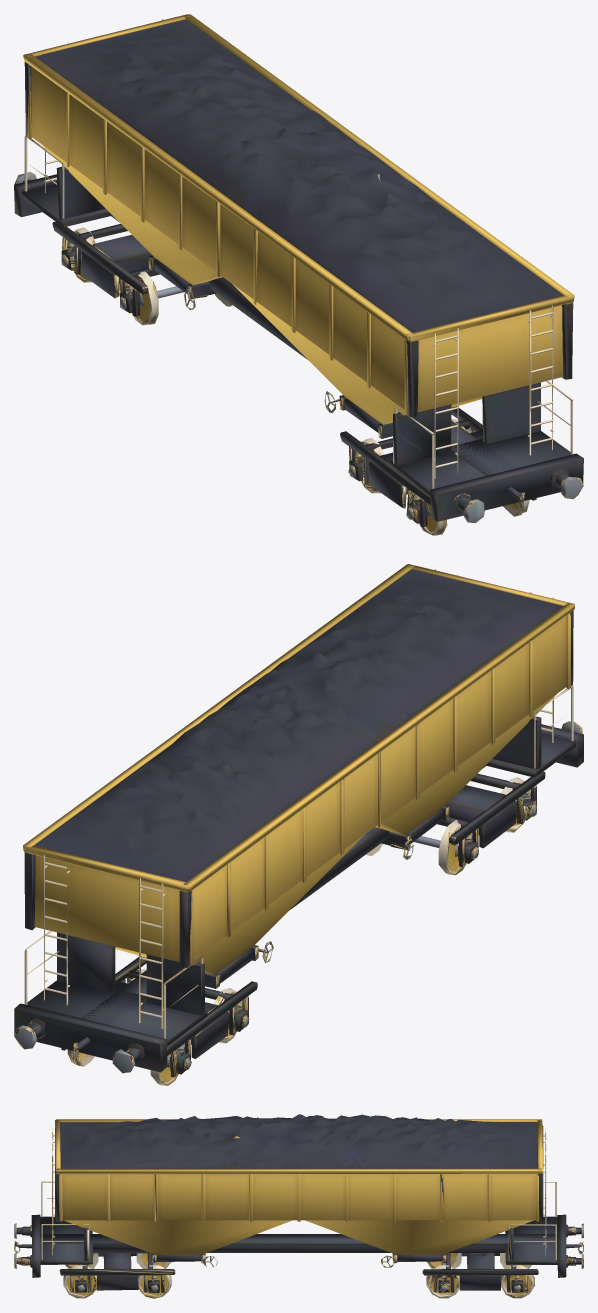
File: hopper-car.glb
The picture shows the model from 3 angles, top to bottom: view 1: azimuth 30°, elevation 25°; view 2: azimuth 150°, elevation 25°; view 3: azimuth 270°, elevation 25°; orthographic projection. The views are drawn at different scales.
Visible parts, largest first — view 1: hopper-car_body; view 2: hopper-car_body; view 3: hopper-car_body.
Boxes of the visible parts, x1,y1,x2,y2 form: hopper-car_body: (14,14,583,535); hopper-car_body: (14,564,583,1085); hopper-car_body: (14,1114,583,1298).
Bounding box in the file's own units: 3 × 4.35 × 13.97.
1 material, 1 textured.
